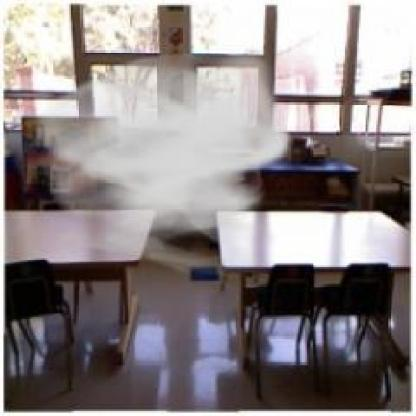Smoke: (25, 44, 294, 278)
